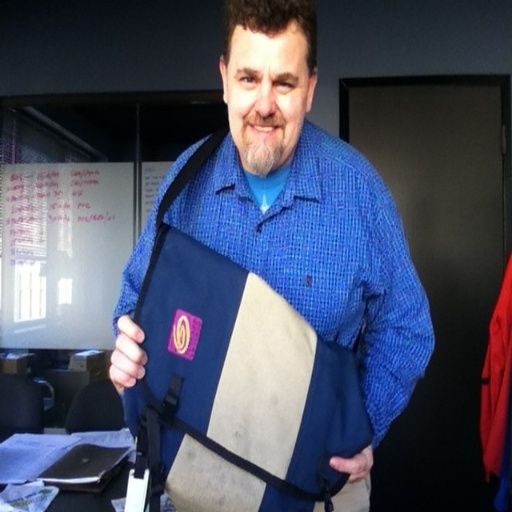hand: (108, 312, 147, 400), (327, 446, 375, 485)
